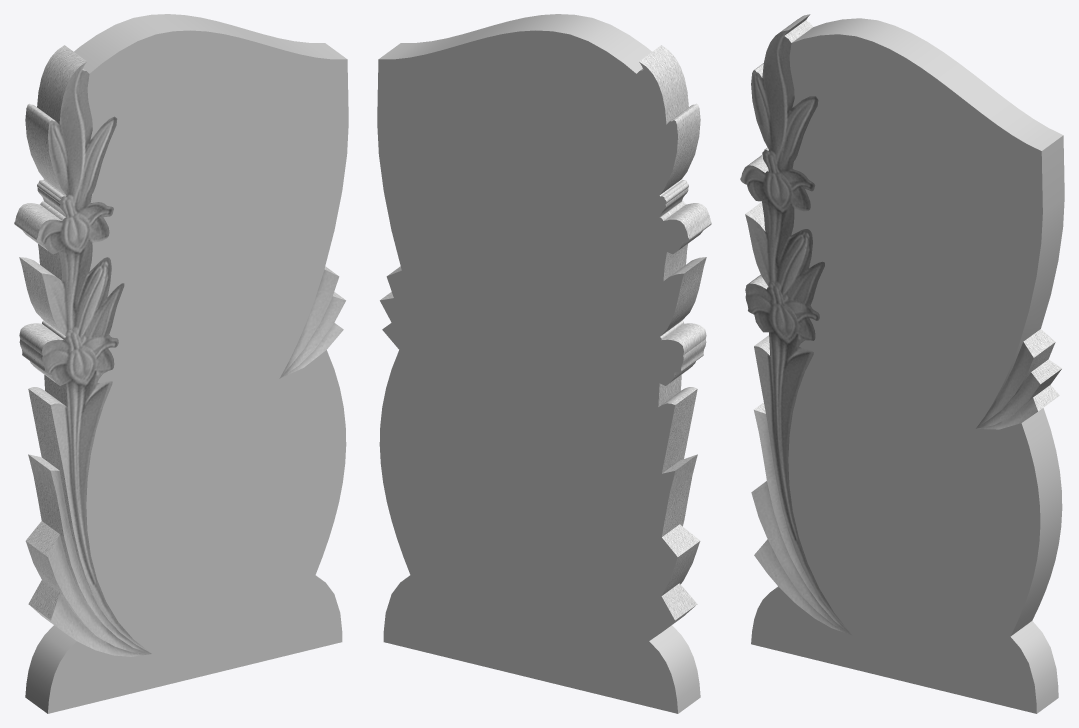
Rendered from cnfe5923ad0e_tkf.glb.
3 renders of one model, left to right at view 1: azimuth 30°, elevation 25°; view 2: azimuth 150°, elevation 25°; view 3: azimuth 330°, elevation 25°, orthographic. The views are drawn at different scales.
Visible parts, largest first — view 1: Pam-d01-158, Pam-d01-158_2_notexture; view 2: Pam-d01-158, Pam-d01-158_2_notexture; view 3: Pam-d01-158, Pam-d01-158_2_notexture.
Boxes of the visible parts, x1,y1,x2,y2 form: Pam-d01-158: (25,14,348,713); Pam-d01-158_2_notexture: (14,45,345,656); Pam-d01-158: (377,14,700,713); Pam-d01-158_2_notexture: (380,45,711,631); Pam-d01-158: (751,18,1064,713); Pam-d01-158_2_notexture: (740,14,1061,635).
Bounding box in the file's own units: 0.4 × 0.8 × 0.05.
Materials: 1 (1 with a texture image).
